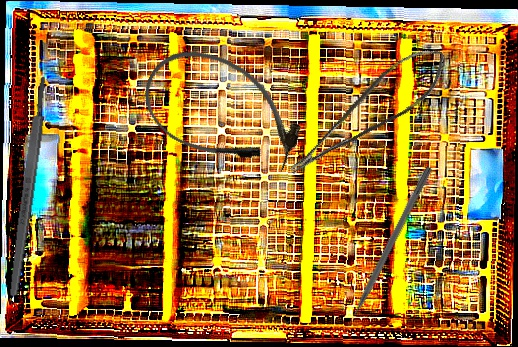Cannula: (129, 31, 316, 192)
Micro Scissor: (270, 37, 460, 181)
Pusher: (338, 164, 434, 338)
Scalpel Handle: (6, 75, 51, 298)
